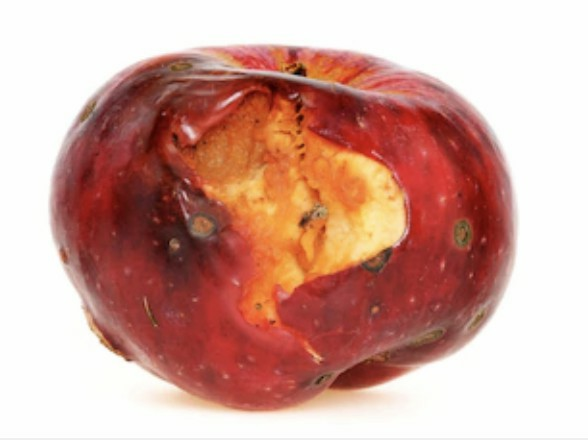rotten_apple: (51, 45, 516, 411)
